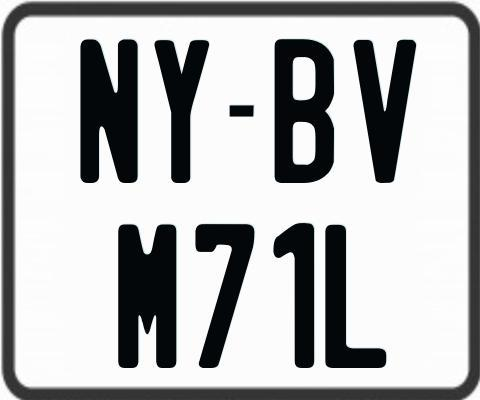1: (272, 221, 317, 372)
7: (192, 221, 254, 368)
B: (274, 38, 336, 186)
L: (322, 224, 387, 373)
M: (118, 222, 181, 372)
N: (78, 39, 142, 183)
V: (352, 38, 415, 181)
Y: (155, 39, 211, 185)
